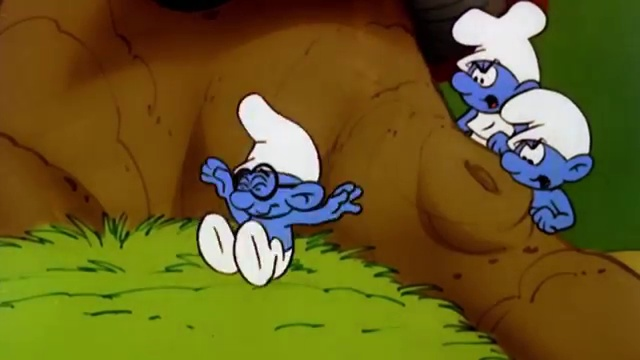smurf: (197, 90, 363, 285), (493, 85, 595, 232), (444, 1, 545, 148)
